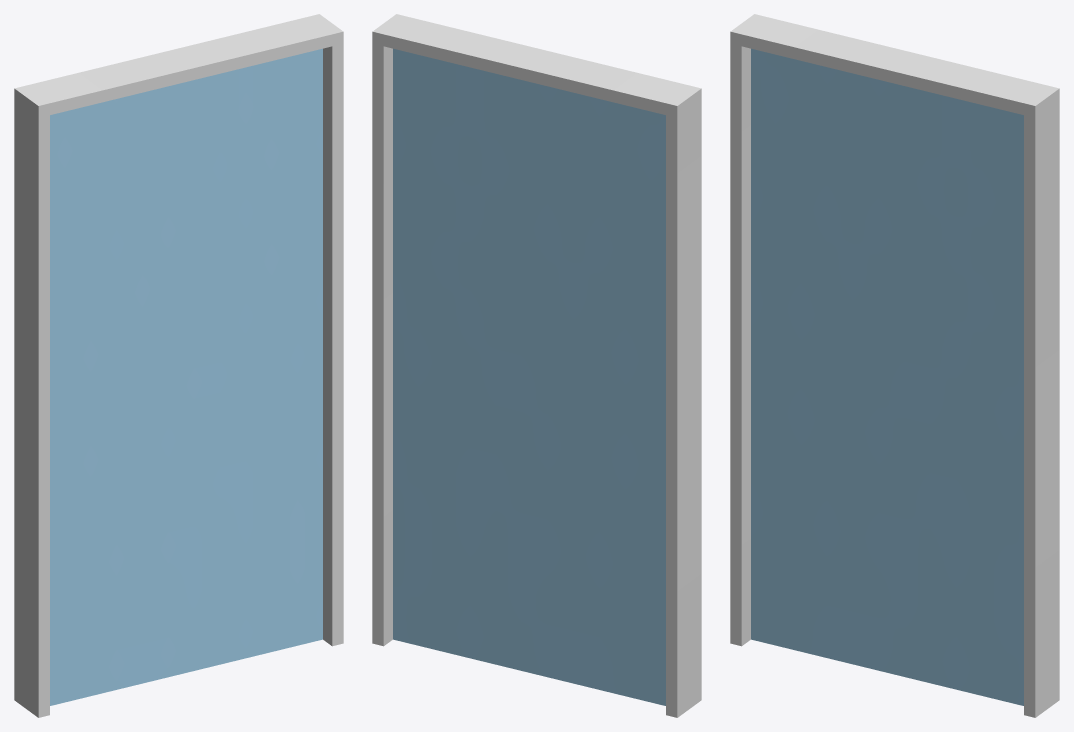
File: window_005.fbx
3 views of the same model, side by side, from view 1: azimuth 30°, elevation 25°; view 2: azimuth 150°, elevation 25°; view 3: azimuth 330°, elevation 25° (orthographic).
Parts seen in each view (by area): view 1: window_005; view 2: window_005; view 3: window_005.
Boxes of the visible parts, x1=… form: window_005: x1=14, y1=14, x2=343, y2=717; window_005: x1=372, y1=14, x2=701, y2=717; window_005: x1=730, y1=14, x2=1059, y2=717.
Size of the model in its own units: 170 by 23.31 by 326.
